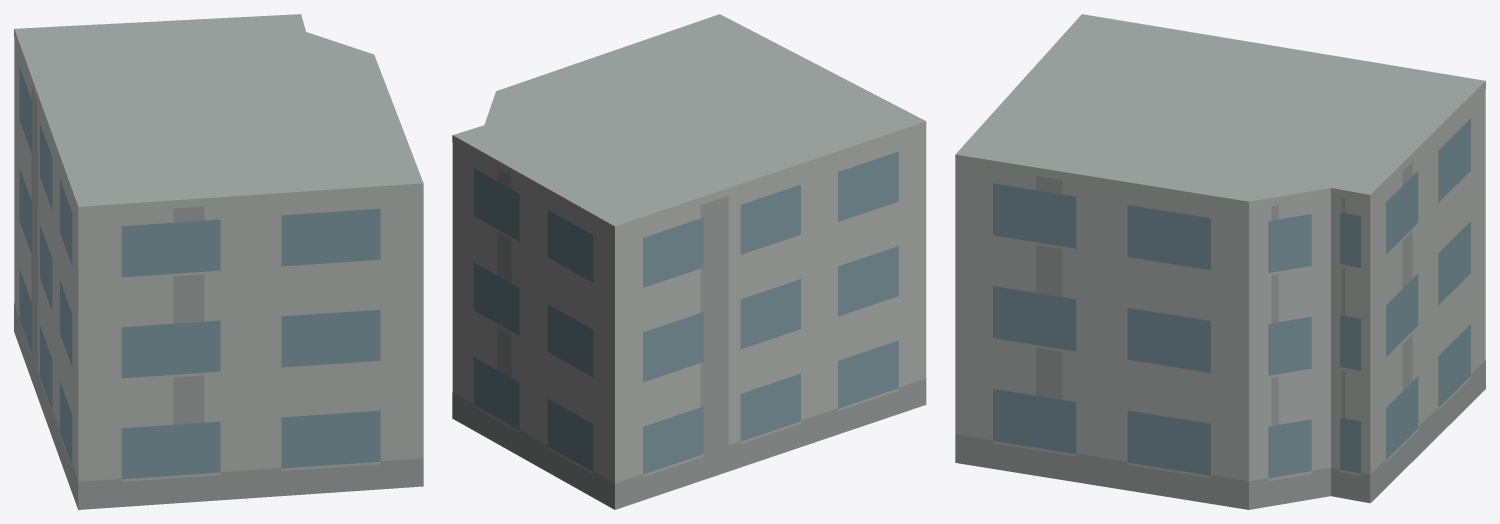
The model's file is residential-a2d0f0e8-e8db-427e-95db-12e2a4adbc1e.glb.
3 views of the same model, side by side, from view 1: azimuth 30°, elevation 25°; view 2: azimuth 150°, elevation 25°; view 3: azimuth 270°, elevation 25° (orthographic). The views are drawn at different scales.
Visible parts, largest first — view 1: residential-a2d0f0e8-e8db-427e-95db-12e2a4adbc1e.tmp; view 2: residential-a2d0f0e8-e8db-427e-95db-12e2a4adbc1e.tmp; view 3: residential-a2d0f0e8-e8db-427e-95db-12e2a4adbc1e.tmp.
Part boxes in pixels (x1,y1,x2,y2): residential-a2d0f0e8-e8db-427e-95db-12e2a4adbc1e.tmp: [14, 14, 423, 509]; residential-a2d0f0e8-e8db-427e-95db-12e2a4adbc1e.tmp: [452, 14, 926, 509]; residential-a2d0f0e8-e8db-427e-95db-12e2a4adbc1e.tmp: [955, 14, 1485, 509].
Bounding box in the file's own units: 11.76 × 9 × 14.05.
